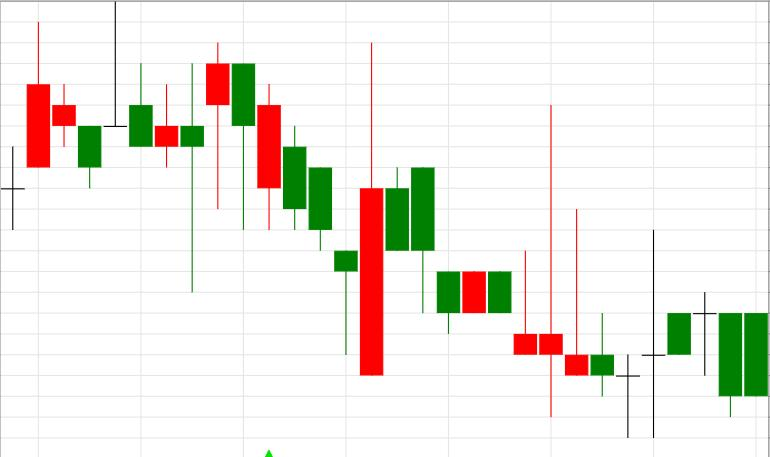bullish_engulfing_rise: (232, 42, 382, 375)
